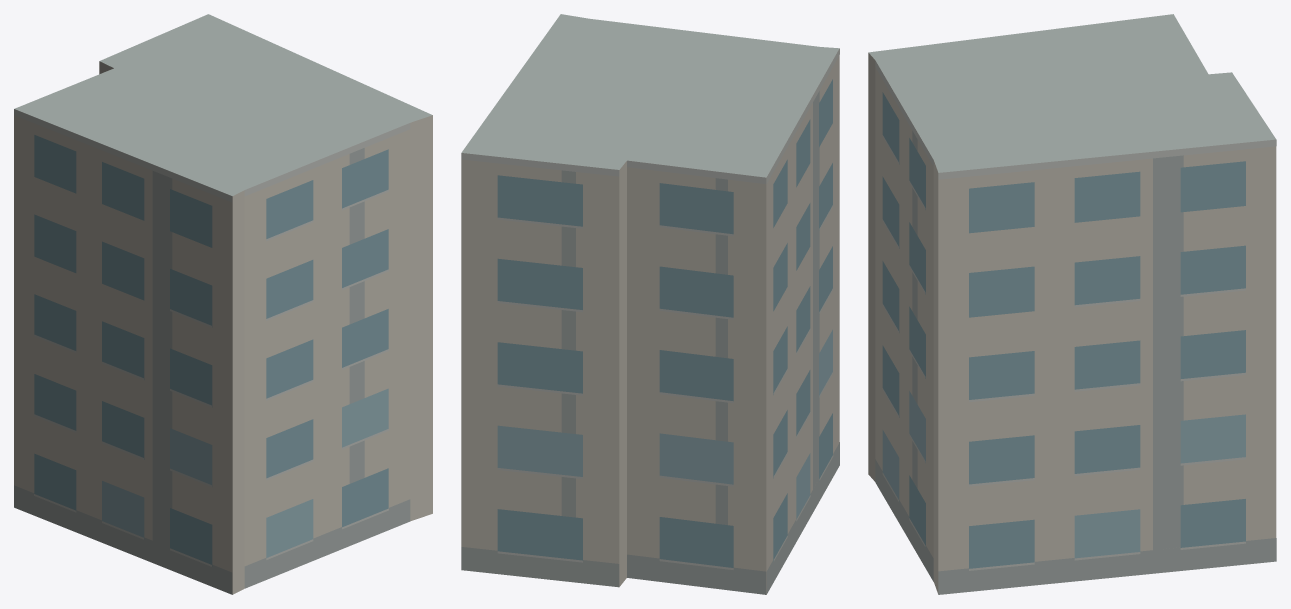
File: survey-upis-32892679.glb
3 views of the same model, side by side, from view 1: azimuth 30°, elevation 25°; view 2: azimuth 150°, elevation 25°; view 3: azimuth 270°, elevation 25° (orthographic). The views are drawn at different scales.
Visible parts, largest first — view 1: survey-upis-32892679.tmp; view 2: survey-upis-32892679.tmp; view 3: survey-upis-32892679.tmp.
Part boxes in pixels (x1,y1,x2,y2): survey-upis-32892679.tmp: [14, 14, 432, 594]; survey-upis-32892679.tmp: [461, 14, 839, 594]; survey-upis-32892679.tmp: [868, 14, 1276, 594].
Bounding box in the file's own units: 12.37 × 15.3 × 13.42.
